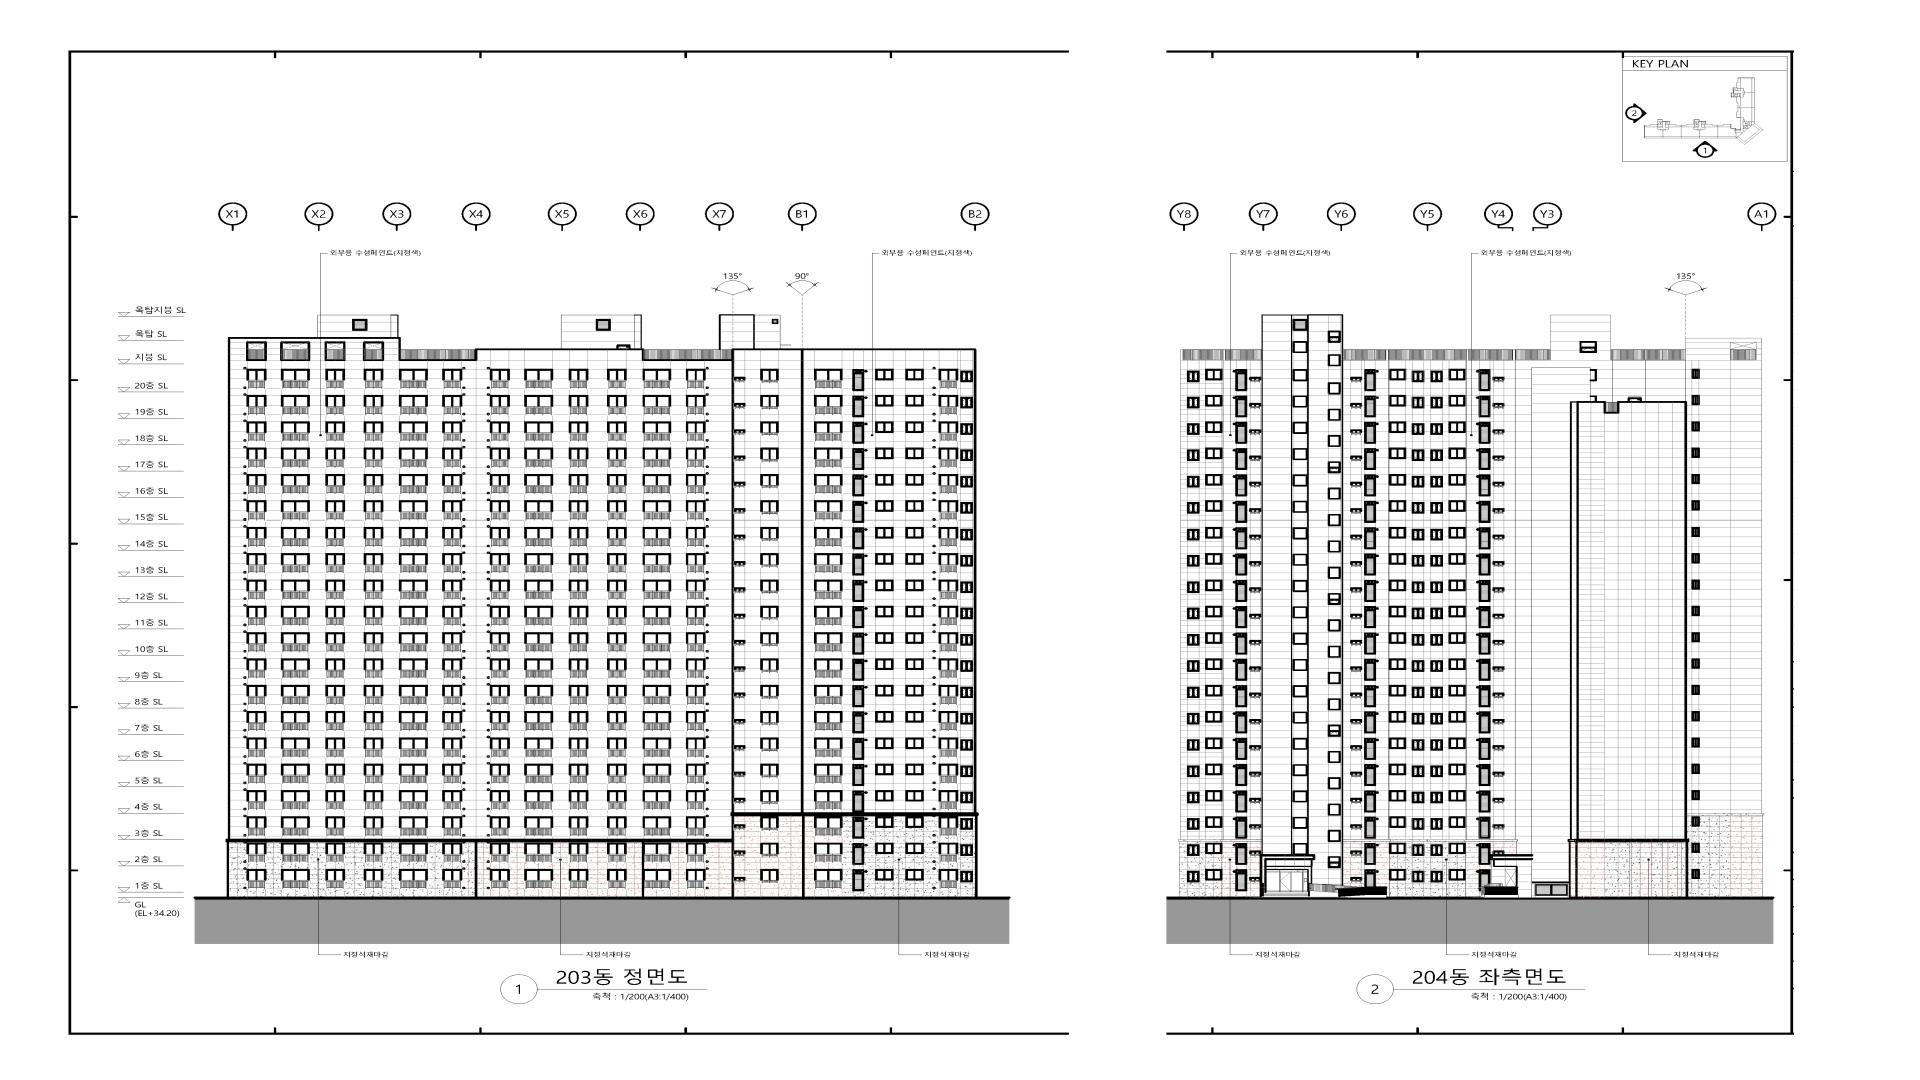door: (1291, 870, 1303, 891), (1280, 870, 1291, 891), (1505, 869, 1516, 886)
wall: (195, 314, 1009, 899), (1167, 314, 1774, 899)
window: (398, 632, 429, 653), (398, 737, 429, 758), (524, 843, 554, 864), (524, 790, 554, 811), (524, 764, 554, 785), (524, 711, 554, 732), (524, 605, 554, 626), (524, 473, 554, 495), (524, 447, 554, 468), (642, 684, 671, 705), (642, 711, 671, 732), (642, 737, 671, 758), (642, 764, 671, 785), (642, 790, 671, 811), (814, 869, 843, 890), (814, 843, 843, 864), (814, 790, 843, 811), (814, 764, 843, 785), (814, 737, 843, 758), (814, 711, 843, 732), (814, 684, 843, 705), (814, 658, 843, 679), (814, 632, 843, 653), (814, 605, 843, 626), (814, 500, 843, 521), (814, 473, 843, 495), (814, 447, 843, 468), (814, 394, 843, 415), (281, 764, 310, 785), (281, 737, 310, 758), (281, 711, 310, 732), (281, 684, 310, 705), (281, 658, 310, 679), (281, 632, 310, 653), (281, 605, 310, 626), (281, 500, 310, 521), (281, 473, 310, 495), (281, 447, 310, 468), (281, 394, 310, 415), (398, 368, 427, 389), (398, 447, 427, 468), (400, 473, 429, 495), (398, 500, 427, 521), (400, 553, 429, 574), (398, 605, 427, 626), (398, 658, 427, 679), (398, 684, 427, 705), (398, 711, 427, 732), (398, 764, 427, 785), (400, 790, 429, 811), (398, 816, 427, 837), (281, 843, 310, 864), (281, 816, 310, 837), (281, 790, 310, 811), (398, 869, 427, 890), (524, 869, 553, 890), (525, 816, 554, 837), (524, 737, 553, 758), (524, 684, 553, 705), (524, 658, 553, 679), (525, 632, 554, 653), (524, 579, 553, 600), (524, 500, 553, 521), (525, 421, 554, 442), (642, 394, 671, 415), (642, 447, 671, 468), (642, 473, 671, 495), (642, 579, 671, 600), (642, 605, 671, 626), (642, 658, 671, 679), (398, 580, 429, 600), (524, 396, 554, 415), (524, 369, 554, 389), (642, 816, 671, 836), (642, 843, 671, 862), (642, 869, 671, 889), (814, 816, 843, 836), (814, 580, 843, 600), (814, 554, 843, 574), (814, 527, 843, 547), (814, 422, 843, 442), (814, 369, 843, 389), (281, 342, 310, 361), (281, 580, 310, 600), (281, 554, 310, 574), (281, 527, 310, 547), (281, 422, 310, 442), (281, 369, 310, 389), (398, 396, 427, 415), (400, 422, 429, 442), (398, 527, 427, 547), (281, 869, 310, 889), (398, 843, 427, 862), (524, 554, 553, 574), (525, 527, 554, 547), (642, 369, 671, 389), (642, 422, 671, 442), (642, 501, 671, 521), (642, 527, 671, 547), (642, 554, 671, 574), (642, 633, 671, 653), (1730, 343, 1756, 360), (607, 447, 626, 468), (607, 473, 626, 495), (607, 500, 626, 521), (607, 579, 626, 600), (607, 605, 626, 626), (607, 658, 626, 679), (607, 684, 626, 705), (607, 737, 626, 758), (568, 711, 588, 732), (568, 684, 588, 705), (568, 658, 588, 679), (568, 605, 589, 625), (568, 579, 588, 600), (568, 527, 589, 547), (568, 473, 588, 495), (442, 790, 462, 811), (326, 737, 345, 758), (364, 684, 384, 705), (364, 658, 384, 679), (364, 632, 384, 653), (324, 632, 344, 653), (326, 605, 345, 626), (364, 605, 384, 626), (326, 553, 345, 574), (324, 526, 344, 547), (324, 342, 345, 361), (363, 342, 384, 361), (364, 368, 384, 389), (489, 369, 510, 389), (939, 421, 959, 442), (939, 447, 959, 468), (939, 473, 959, 495), (939, 500, 959, 521), (568, 447, 588, 468), (568, 421, 588, 442), (568, 394, 588, 415), (491, 394, 510, 415), (443, 394, 463, 415), (442, 421, 462, 442), (491, 447, 510, 468), (489, 500, 509, 521), (442, 447, 462, 468), (442, 500, 462, 521), (442, 553, 462, 574), (489, 553, 509, 574), (491, 579, 510, 600), (442, 605, 462, 626), (489, 605, 509, 626), (489, 632, 509, 653), (443, 632, 463, 653), (489, 658, 509, 679), (489, 684, 509, 705), (443, 737, 463, 758), (489, 737, 509, 758), (939, 553, 959, 574), (939, 579, 959, 600), (939, 605, 959, 626), (939, 632, 959, 653), (939, 684, 959, 705), (939, 737, 959, 758), (686, 684, 705, 705), (686, 658, 705, 679), (686, 632, 705, 653), (686, 605, 705, 626), (686, 500, 705, 521), (364, 526, 384, 547), (326, 500, 345, 521), (364, 473, 384, 495), (326, 447, 345, 468), (326, 394, 345, 415), (247, 394, 266, 415), (247, 447, 266, 468), (247, 605, 266, 626), (247, 632, 266, 653), (247, 684, 266, 705), (686, 396, 705, 415), (607, 396, 626, 415), (607, 422, 626, 442), (607, 527, 626, 547), (607, 554, 626, 574), (607, 633, 626, 653), (607, 711, 626, 731), (607, 764, 626, 783), (607, 790, 626, 810), (607, 816, 626, 836), (568, 869, 588, 889), (568, 843, 588, 862), (568, 816, 588, 836), (568, 790, 588, 810), (568, 764, 588, 783), (568, 737, 588, 757), (568, 632, 588, 651), (568, 554, 588, 574), (568, 500, 588, 520), (489, 843, 509, 862), (489, 869, 509, 889), (442, 869, 462, 889), (442, 843, 462, 862), (442, 816, 462, 836), (364, 869, 384, 889), (364, 843, 384, 862), (326, 869, 345, 889), (326, 843, 345, 862), (364, 816, 384, 836), (326, 816, 345, 836), (326, 790, 345, 810), (364, 790, 384, 810), (364, 764, 384, 783), (326, 764, 345, 783), (443, 764, 463, 783), (364, 737, 384, 757), (326, 711, 345, 731), (364, 711, 384, 731), (326, 684, 345, 704), (326, 658, 345, 678), (364, 580, 384, 600), (326, 580, 345, 600), (364, 554, 384, 574), (247, 342, 266, 361), (247, 369, 266, 389), (326, 369, 345, 389), (442, 369, 462, 389), (568, 369, 588, 389), (607, 369, 626, 389), (686, 369, 705, 389), (939, 369, 959, 389), (939, 396, 959, 415), (489, 422, 509, 442), (491, 475, 510, 495), (442, 475, 462, 495), (442, 527, 462, 547), (491, 527, 510, 547), (442, 580, 462, 600), (443, 658, 463, 678), (442, 686, 462, 705), (443, 711, 463, 731), (491, 711, 510, 731), (491, 764, 510, 783), (491, 790, 510, 810), (491, 816, 510, 836), (939, 527, 959, 547), (939, 658, 959, 678), (939, 711, 959, 731), (939, 764, 959, 783), (939, 790, 959, 810), (939, 816, 959, 836), (939, 843, 959, 862), (939, 869, 959, 889), (686, 869, 705, 889), (686, 843, 705, 862), (686, 816, 705, 836), (607, 869, 626, 889), (607, 843, 626, 862), (686, 790, 705, 810), (686, 764, 705, 783), (686, 737, 705, 757), (686, 711, 705, 731), (686, 580, 705, 600), (686, 554, 705, 574), (686, 527, 705, 547), (686, 475, 705, 495), (686, 447, 705, 467), (686, 422, 705, 442), (364, 500, 384, 520), (324, 475, 344, 495), (364, 448, 384, 468), (364, 422, 384, 442), (326, 422, 345, 442), (364, 396, 384, 415), (247, 422, 266, 442), (247, 475, 266, 495), (247, 500, 266, 520), (247, 527, 266, 547), (247, 554, 266, 574), (247, 580, 266, 600), (247, 658, 266, 678), (247, 711, 266, 731), (247, 737, 266, 757), (247, 764, 266, 783), (247, 790, 266, 810), (247, 816, 266, 836), (247, 843, 266, 862), (247, 869, 266, 889), (760, 394, 779, 410), (760, 447, 779, 463), (760, 500, 779, 516), (760, 553, 779, 568), (760, 605, 779, 621), (760, 632, 779, 647), (760, 684, 779, 700), (1266, 870, 1280, 891), (852, 843, 865, 865), (1364, 843, 1377, 865), (1364, 790, 1377, 812), (1364, 527, 1377, 550), (760, 369, 779, 384), (760, 421, 779, 435), (760, 475, 779, 489), (760, 527, 779, 542), (760, 658, 779, 673), (760, 790, 779, 804), (760, 816, 779, 831), (760, 843, 779, 857), (1364, 712, 1377, 733), (1364, 686, 1377, 707), (1364, 633, 1377, 654), (1364, 580, 1377, 601), (1364, 475, 1377, 496), (761, 580, 779, 595), (761, 711, 779, 725), (761, 737, 779, 752), (760, 764, 778, 778), (761, 869, 779, 884), (852, 369, 864, 392), (852, 396, 864, 418), (852, 422, 864, 444), (852, 448, 864, 471), (852, 475, 864, 497), (853, 527, 865, 550), (852, 580, 864, 603), (852, 605, 864, 628), (852, 658, 864, 680), (852, 711, 864, 733), (852, 737, 864, 760), (852, 764, 864, 786), (852, 816, 864, 839), (852, 869, 864, 891), (1478, 369, 1490, 392), (1364, 369, 1375, 392), (1236, 369, 1247, 392), (1236, 790, 1247, 812), (1236, 816, 1247, 839), (1236, 843, 1247, 865), (1236, 869, 1247, 891), (1364, 816, 1375, 839), (1364, 764, 1375, 786), (1364, 658, 1375, 680), (1364, 448, 1375, 471), (1364, 422, 1375, 444), (1364, 396, 1375, 418), (1478, 396, 1490, 418), (1478, 422, 1490, 444), (1478, 448, 1490, 471), (1478, 527, 1490, 550), (1478, 737, 1490, 760), (1478, 764, 1490, 786), (1478, 790, 1490, 812), (1478, 816, 1490, 839), (1478, 843, 1490, 865), (1478, 869, 1490, 891), (1236, 396, 1247, 418), (1236, 422, 1247, 444), (1236, 448, 1247, 471), (1236, 475, 1247, 497), (1236, 501, 1247, 524), (1236, 658, 1247, 680), (1236, 711, 1247, 733), (1236, 737, 1247, 760), (1236, 764, 1247, 786), (852, 501, 864, 522), (852, 554, 864, 575), (852, 633, 864, 654), (852, 686, 864, 707), (852, 791, 864, 812), (1364, 738, 1375, 760), (1364, 607, 1375, 628), (1364, 554, 1375, 575), (1364, 501, 1375, 522), (1478, 475, 1490, 496), (1478, 501, 1490, 522), (1478, 554, 1490, 575), (1478, 580, 1490, 601), (1478, 607, 1490, 628), (1478, 633, 1490, 654), (1478, 659, 1490, 680), (1478, 686, 1490, 707), (1478, 712, 1490, 733), (1236, 527, 1247, 549), (1236, 554, 1247, 575), (1236, 580, 1247, 601), (1236, 607, 1247, 628), (1236, 633, 1247, 654), (1236, 686, 1247, 707), (1364, 869, 1377, 887), (876, 369, 894, 381), (906, 369, 924, 381), (874, 396, 893, 407), (905, 394, 923, 406), (876, 421, 894, 433), (905, 447, 923, 459), (876, 473, 894, 485), (905, 475, 923, 487), (876, 500, 894, 512), (906, 500, 924, 512), (906, 527, 924, 539), (874, 553, 893, 564), (906, 553, 924, 564), (876, 605, 894, 617), (905, 605, 923, 617), (874, 632, 893, 644), (906, 632, 924, 644), (876, 658, 894, 670), (906, 658, 924, 670), (874, 684, 893, 696), (905, 684, 923, 696), (876, 711, 894, 723), (906, 711, 924, 723), (876, 737, 894, 749), (905, 737, 923, 749), (876, 764, 894, 775), (905, 764, 923, 775), (874, 790, 893, 802), (906, 790, 924, 802), (876, 816, 894, 828), (905, 816, 923, 828), (874, 843, 893, 855), (906, 843, 924, 855), (876, 869, 894, 881), (905, 869, 923, 881), (1448, 447, 1466, 459), (1389, 447, 1407, 459), (1389, 473, 1407, 485), (1389, 500, 1407, 512), (1448, 500, 1466, 512), (1448, 527, 1466, 539), (1448, 553, 1466, 564), (1448, 579, 1466, 591), (1448, 605, 1466, 617), (1389, 579, 1407, 591), (1448, 632, 1466, 644), (1389, 658, 1407, 670), (1448, 684, 1466, 696), (1448, 764, 1466, 775), (1389, 737, 1407, 749), (1448, 790, 1466, 802), (1389, 790, 1407, 802), (1448, 816, 1466, 828), (1448, 843, 1466, 855), (1389, 843, 1407, 855), (1448, 869, 1466, 881), (1292, 737, 1308, 750), (1580, 342, 1597, 353), (1389, 369, 1406, 381), (1389, 394, 1406, 406), (1389, 605, 1406, 617), (1448, 658, 1465, 670), (1389, 684, 1406, 696), (1389, 711, 1406, 723), (1449, 711, 1466, 723), (1449, 737, 1466, 749), (1389, 764, 1406, 775), (1389, 816, 1406, 828), (1292, 369, 1309, 381), (1292, 501, 1309, 513), (1292, 843, 1309, 855), (1535, 884, 1552, 895), (1551, 884, 1568, 895), (1389, 869, 1406, 881), (1205, 869, 1222, 881), (1205, 843, 1222, 855), (1205, 816, 1222, 828), (1205, 790, 1222, 802), (1205, 764, 1222, 775), (1205, 737, 1222, 749), (1205, 711, 1222, 723), (1205, 684, 1222, 696), (1205, 658, 1222, 670), (1205, 632, 1222, 644), (1205, 605, 1222, 617), (1205, 579, 1222, 591), (1205, 553, 1222, 564), (1205, 526, 1222, 538), (1205, 500, 1222, 512), (1205, 473, 1222, 485), (1205, 447, 1222, 459), (906, 422, 924, 433), (874, 448, 893, 459), (876, 527, 894, 538), (876, 580, 894, 591), (905, 580, 923, 591), (1448, 369, 1466, 380), (1448, 396, 1466, 406), (1448, 422, 1466, 433), (1448, 475, 1466, 485), (352, 319, 368, 331), (1292, 319, 1308, 331), (1292, 342, 1308, 353), (1292, 396, 1308, 407), (1292, 422, 1308, 434), (1292, 448, 1308, 460), (1292, 475, 1308, 487), (1292, 527, 1308, 539), (1292, 554, 1308, 566), (1292, 580, 1308, 592), (1292, 607, 1308, 618), (1292, 633, 1308, 645), (1292, 659, 1308, 671), (1292, 686, 1308, 698), (1292, 712, 1308, 724), (1292, 765, 1308, 777), (1292, 790, 1308, 802), (1292, 816, 1308, 828), (1205, 369, 1222, 380), (1389, 422, 1406, 433), (1389, 527, 1406, 538), (1389, 554, 1406, 564), (1389, 633, 1406, 644), (1205, 422, 1222, 433), (1205, 396, 1222, 406), (1328, 750, 1341, 764), (1328, 803, 1341, 816), (596, 319, 611, 331), (960, 397, 973, 409), (960, 423, 973, 435), (960, 450, 973, 462), (960, 476, 973, 488), (960, 502, 973, 514), (960, 529, 973, 541), (960, 555, 973, 567), (960, 582, 973, 593), (960, 608, 973, 620), (960, 634, 973, 646), (960, 687, 973, 699), (960, 371, 973, 382), (960, 740, 973, 752), (960, 765, 973, 777), (960, 791, 973, 803), (960, 818, 973, 829), (960, 844, 973, 856), (960, 870, 973, 882), (1328, 331, 1341, 343), (1187, 371, 1200, 382), (1328, 462, 1341, 473), (1328, 593, 1341, 605), (1187, 397, 1200, 409), (1187, 423, 1200, 435), (1187, 450, 1200, 462), (1187, 476, 1200, 488), (1187, 502, 1200, 514), (1187, 529, 1200, 541), (1187, 555, 1200, 567), (1187, 582, 1200, 593), (1187, 608, 1200, 620), (1187, 634, 1200, 646), (1187, 661, 1200, 673), (1187, 687, 1200, 699), (1187, 712, 1200, 724), (1187, 765, 1200, 777), (1187, 791, 1200, 803), (1187, 818, 1200, 829), (1187, 844, 1200, 856), (1187, 870, 1200, 882), (1411, 870, 1424, 882), (1411, 791, 1424, 803), (1328, 382, 1341, 394), (1328, 409, 1341, 421), (1328, 435, 1341, 447), (1328, 488, 1341, 500), (1328, 514, 1341, 526), (1328, 541, 1341, 553), (1328, 567, 1341, 579), (1328, 620, 1341, 632), (1328, 646, 1341, 658), (1328, 725, 1341, 737), (1328, 856, 1341, 868), (1328, 355, 1341, 367), (1328, 673, 1341, 684), (1328, 699, 1341, 711), (1328, 777, 1341, 789), (1328, 829, 1341, 841), (1431, 371, 1443, 382), (1412, 371, 1424, 382), (1431, 870, 1443, 882), (1431, 844, 1443, 856), (1412, 844, 1424, 856), (1412, 818, 1424, 829), (1431, 818, 1443, 829), (1431, 791, 1443, 803), (1412, 765, 1424, 777), (1431, 765, 1443, 777), (1412, 713, 1424, 725), (1412, 661, 1424, 673), (1412, 634, 1424, 646), (1431, 634, 1443, 646), (1431, 608, 1443, 620), (1412, 608, 1424, 620), (1412, 582, 1424, 593), (1431, 582, 1443, 593), (1412, 555, 1424, 567), (1431, 555, 1443, 567), (1431, 529, 1443, 541), (1412, 529, 1424, 541), (1412, 476, 1424, 488), (1431, 476, 1443, 488), (1412, 450, 1424, 462), (1431, 450, 1443, 462), (1412, 423, 1424, 435), (1431, 423, 1443, 435), (1412, 397, 1424, 409), (1431, 397, 1443, 409), (960, 661, 973, 671), (960, 713, 973, 724), (1187, 740, 1200, 750), (1411, 740, 1424, 750), (1431, 740, 1443, 750), (1431, 713, 1443, 724), (1412, 687, 1424, 698), (1431, 687, 1443, 698), (1431, 661, 1443, 671), (1412, 502, 1424, 513), (1431, 502, 1443, 513), (1303, 870, 1308, 891), (1691, 632, 1700, 642), (1691, 816, 1700, 827), (1249, 429, 1262, 435), (1249, 692, 1262, 699), (1249, 640, 1262, 646), (1692, 394, 1700, 405), (1692, 447, 1700, 458), (1692, 473, 1700, 484), (1692, 500, 1700, 510), (1692, 579, 1700, 589), (1692, 658, 1700, 669), (1692, 684, 1700, 695), (1692, 711, 1700, 721), (1692, 737, 1700, 748), (1692, 764, 1700, 774), (1692, 790, 1700, 800), (1692, 843, 1700, 853), (1692, 869, 1700, 880), (733, 455, 745, 462), (733, 481, 745, 488), (733, 508, 745, 514), (733, 534, 745, 541), (733, 587, 745, 593), (733, 613, 745, 620), (733, 640, 745, 646), (733, 666, 745, 673), (733, 692, 745, 699), (733, 719, 745, 725), (733, 745, 745, 752), (733, 771, 745, 778), (733, 798, 745, 804), (733, 824, 745, 831), (733, 851, 745, 857), (733, 877, 745, 884), (1590, 369, 1597, 381), (1249, 560, 1261, 567), (1350, 534, 1362, 541), (1249, 534, 1261, 541), (1249, 508, 1261, 514), (1350, 508, 1362, 514), (1350, 481, 1362, 488), (1350, 455, 1362, 462), (1350, 402, 1362, 409), (1249, 402, 1261, 409), (1249, 455, 1261, 462), (1249, 481, 1261, 488), (1493, 560, 1505, 567), (1493, 587, 1505, 593), (1493, 613, 1505, 620), (1493, 640, 1505, 646), (1493, 666, 1505, 673), (1493, 692, 1505, 699), (1493, 719, 1505, 725), (1493, 771, 1505, 778), (1493, 824, 1505, 831), (1249, 851, 1261, 857), (1249, 771, 1261, 778), (1350, 771, 1362, 778), (1249, 745, 1261, 752), (1249, 719, 1261, 725), (1350, 719, 1362, 725), (1350, 692, 1362, 699), (1350, 666, 1362, 673), (1249, 666, 1261, 673), (1350, 640, 1362, 646), (1350, 613, 1362, 620), (1249, 613, 1261, 620), (1249, 587, 1261, 593), (1350, 587, 1362, 593), (1493, 481, 1505, 488), (1493, 508, 1505, 514), (1493, 534, 1505, 541), (1692, 369, 1700, 378), (1692, 422, 1700, 431), (1692, 527, 1700, 537), (1692, 554, 1700, 563), (1692, 607, 1700, 616), (1249, 798, 1262, 803), (733, 377, 745, 382), (733, 404, 745, 409), (733, 430, 745, 435), (733, 562, 745, 567), (1493, 377, 1505, 382), (1350, 377, 1362, 382), (1249, 377, 1261, 382), (1350, 562, 1362, 567), (1350, 430, 1362, 435), (1493, 745, 1505, 750), (1493, 798, 1505, 803), (1350, 877, 1362, 882), (1350, 851, 1362, 856), (1249, 877, 1261, 882), (1350, 824, 1362, 829), (1350, 798, 1362, 803), (1249, 824, 1261, 829), (1350, 745, 1362, 750), (1493, 404, 1505, 409), (1493, 430, 1505, 435), (1493, 456, 1505, 462), (1493, 851, 1505, 855), (771, 319, 778, 324)
